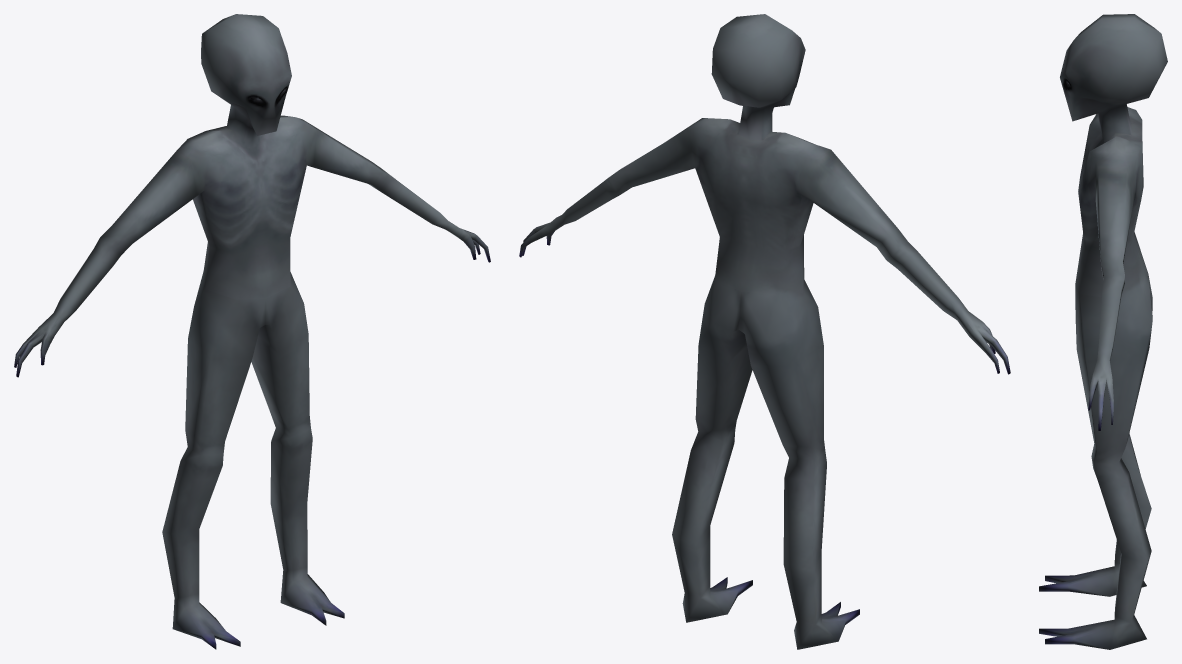
The model's file is Alien2.obj.
3 views of the same model, side by side, from view 1: azimuth 30°, elevation 25°; view 2: azimuth 150°, elevation 25°; view 3: azimuth 270°, elevation 25° (orthographic). The views are drawn at different scales.
Visible parts, largest first — view 1: armlower.001; view 2: armlower.001; view 3: armlower.001.
Part boxes in pixels (x1=…): armlower.001: x1=14, y1=14, x2=490, y2=649; armlower.001: x1=519, y1=14, x2=1010, y2=649; armlower.001: x1=1039, y1=14, x2=1167, y2=649.
Bounding box in the file's own units: 2.74 × 3.25 × 0.6385.
1 material, 1 textured.
